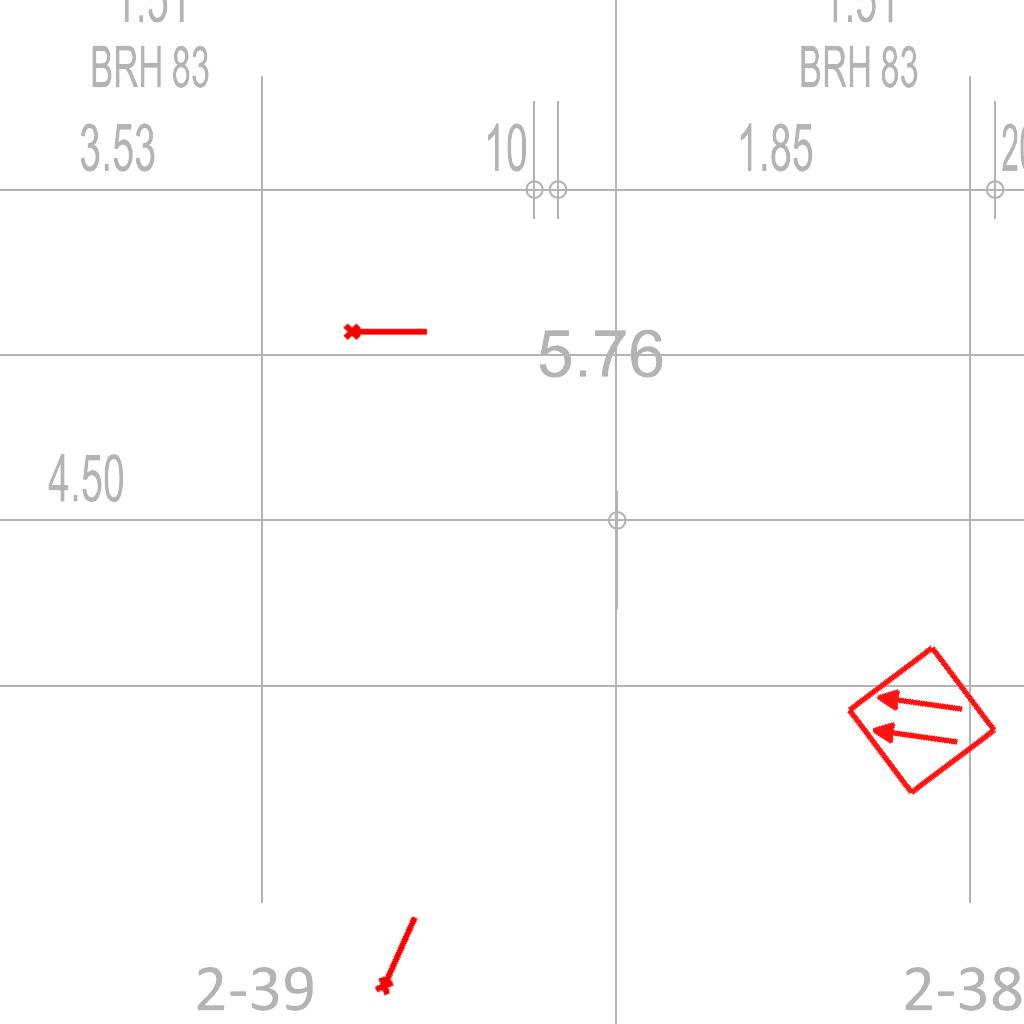ASR_Ansaugoeffnung: (368, 909, 426, 1000), (342, 319, 430, 342)
RMO_Rauchmelder_optischer: (842, 641, 1001, 800)
